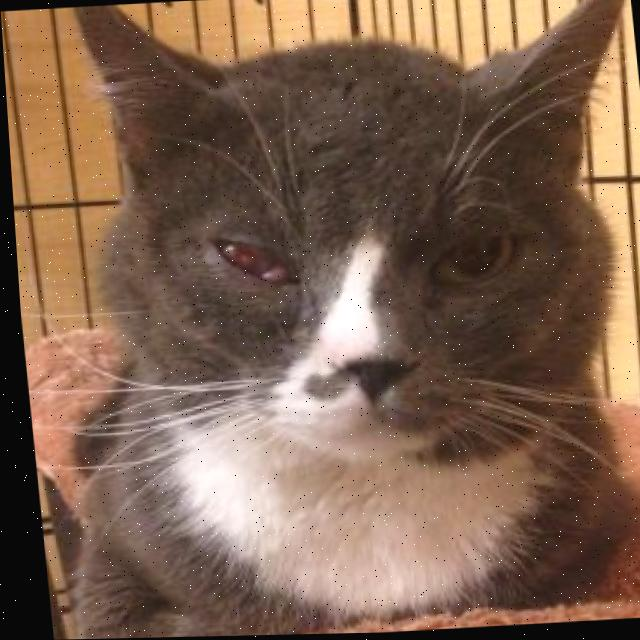British Shorthair: (8, 0, 640, 640)
